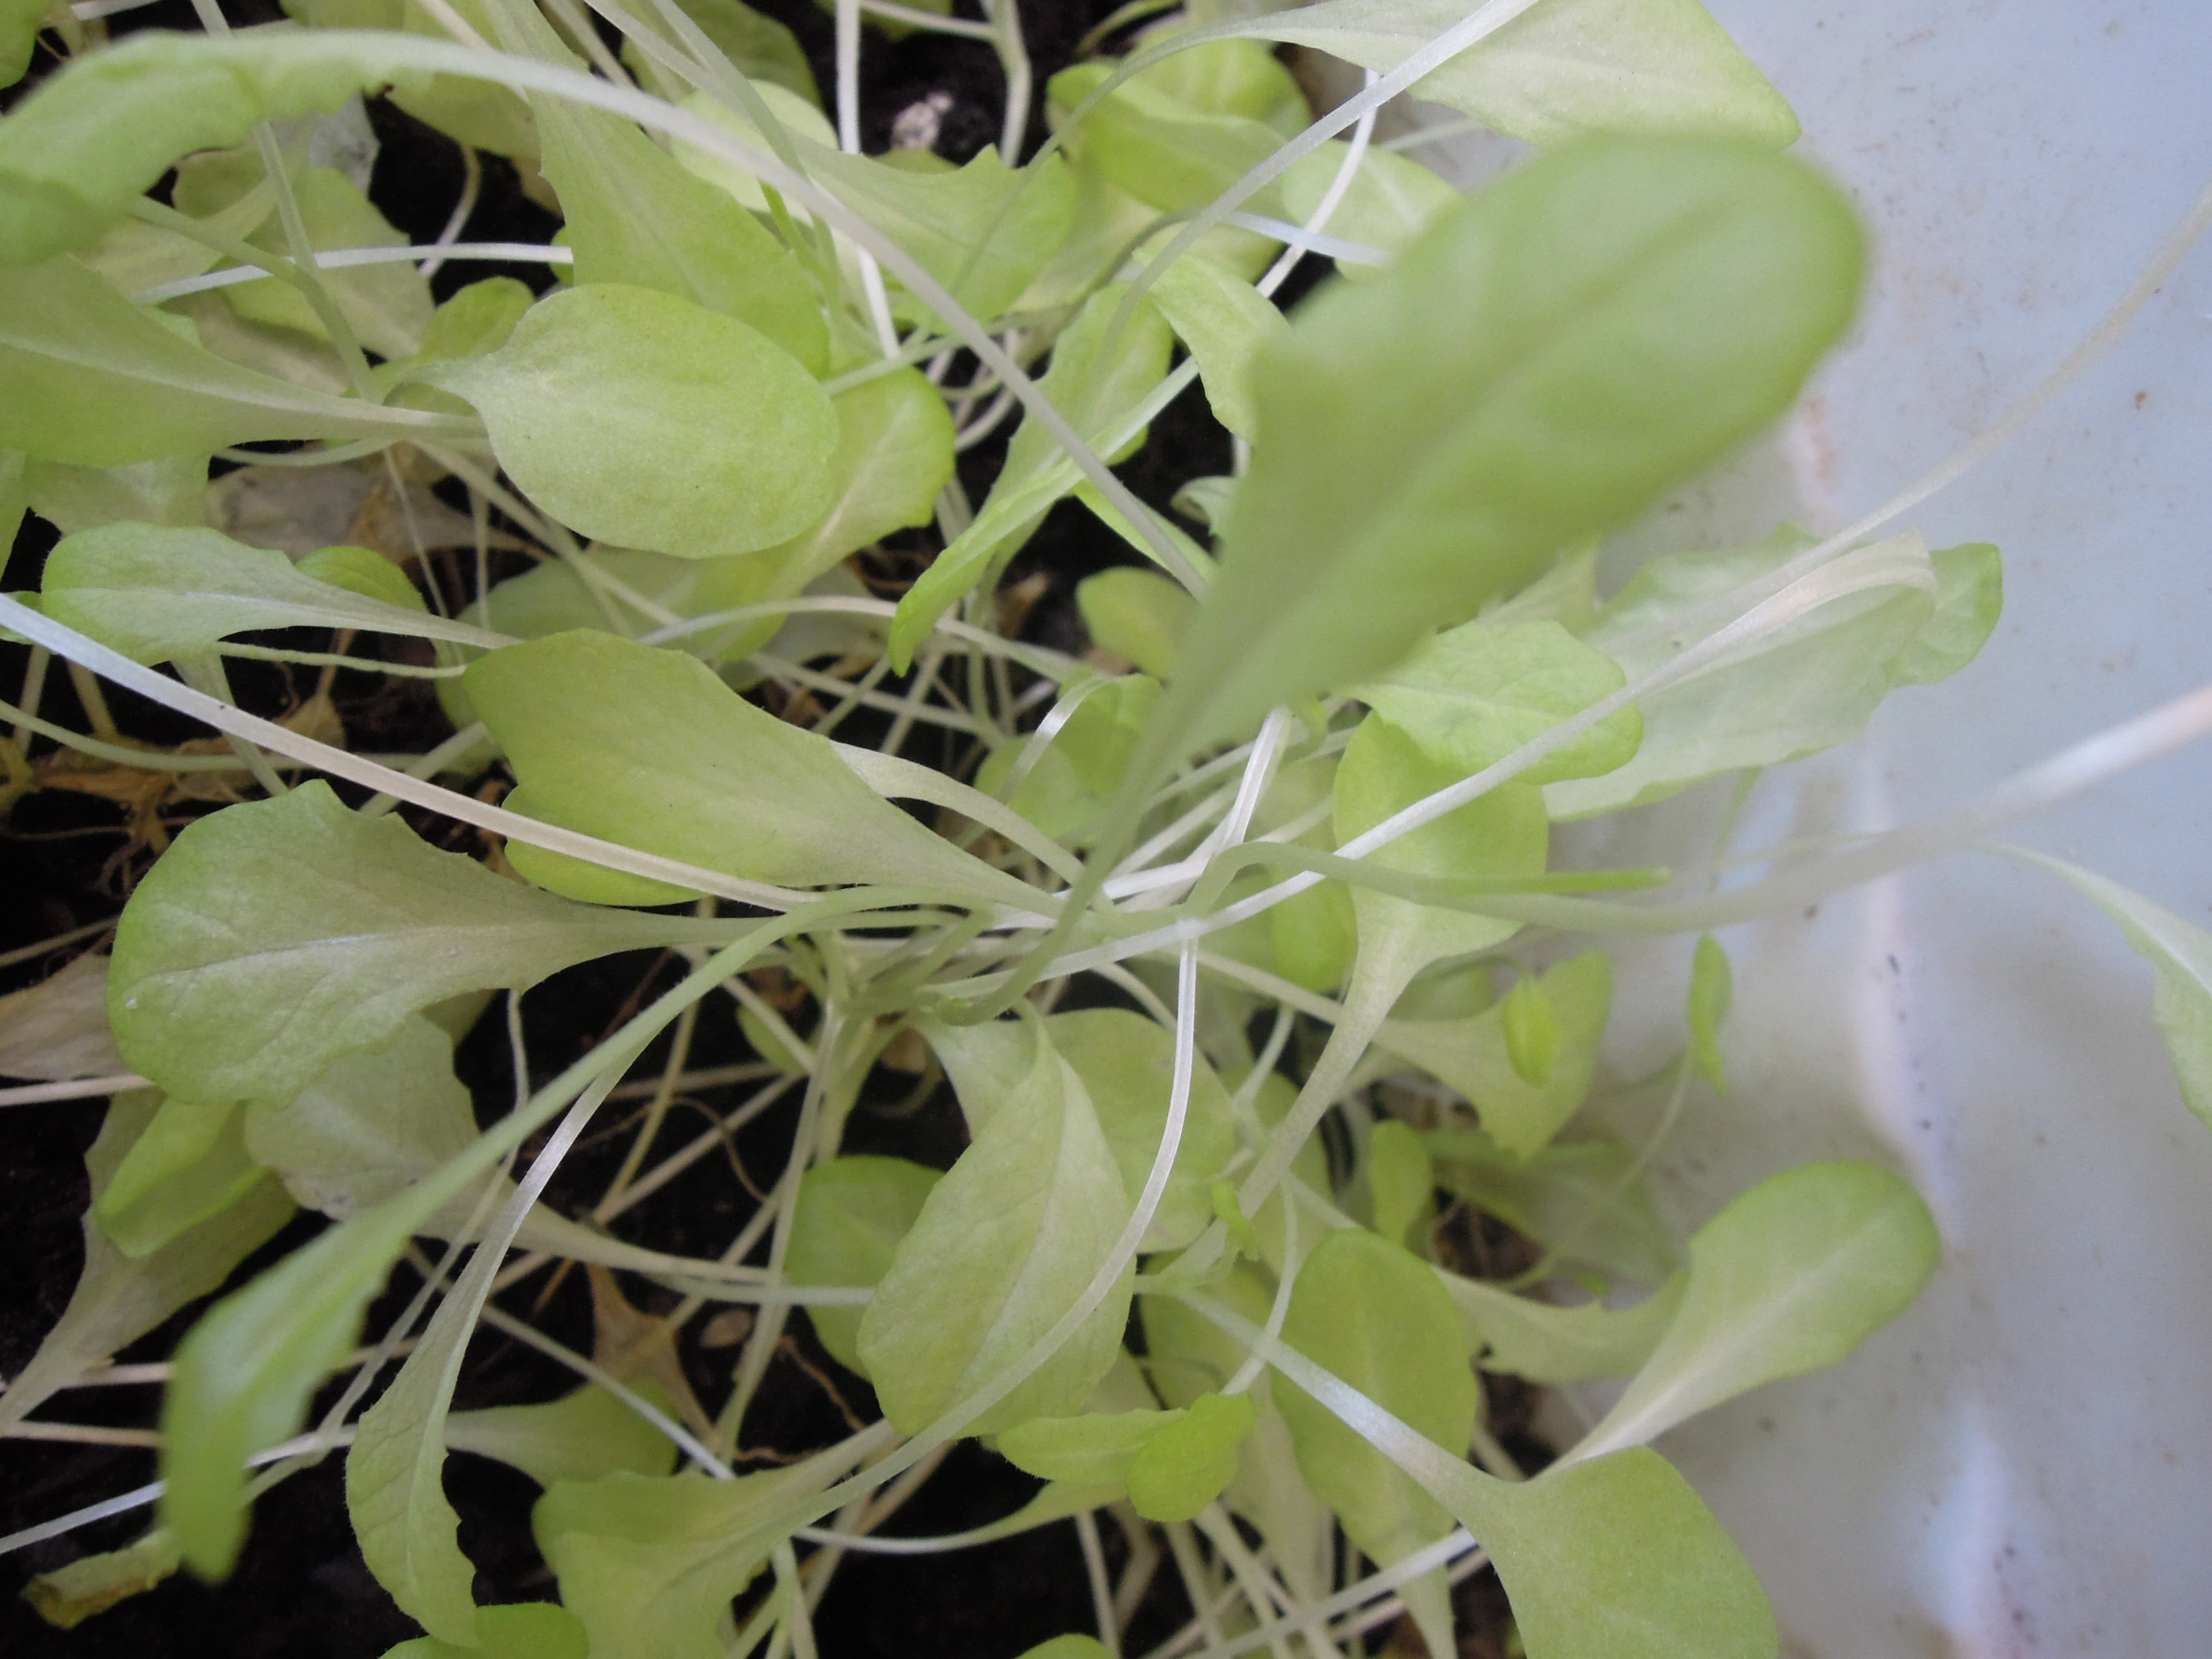weeek6: (0, 63, 1918, 1654)
